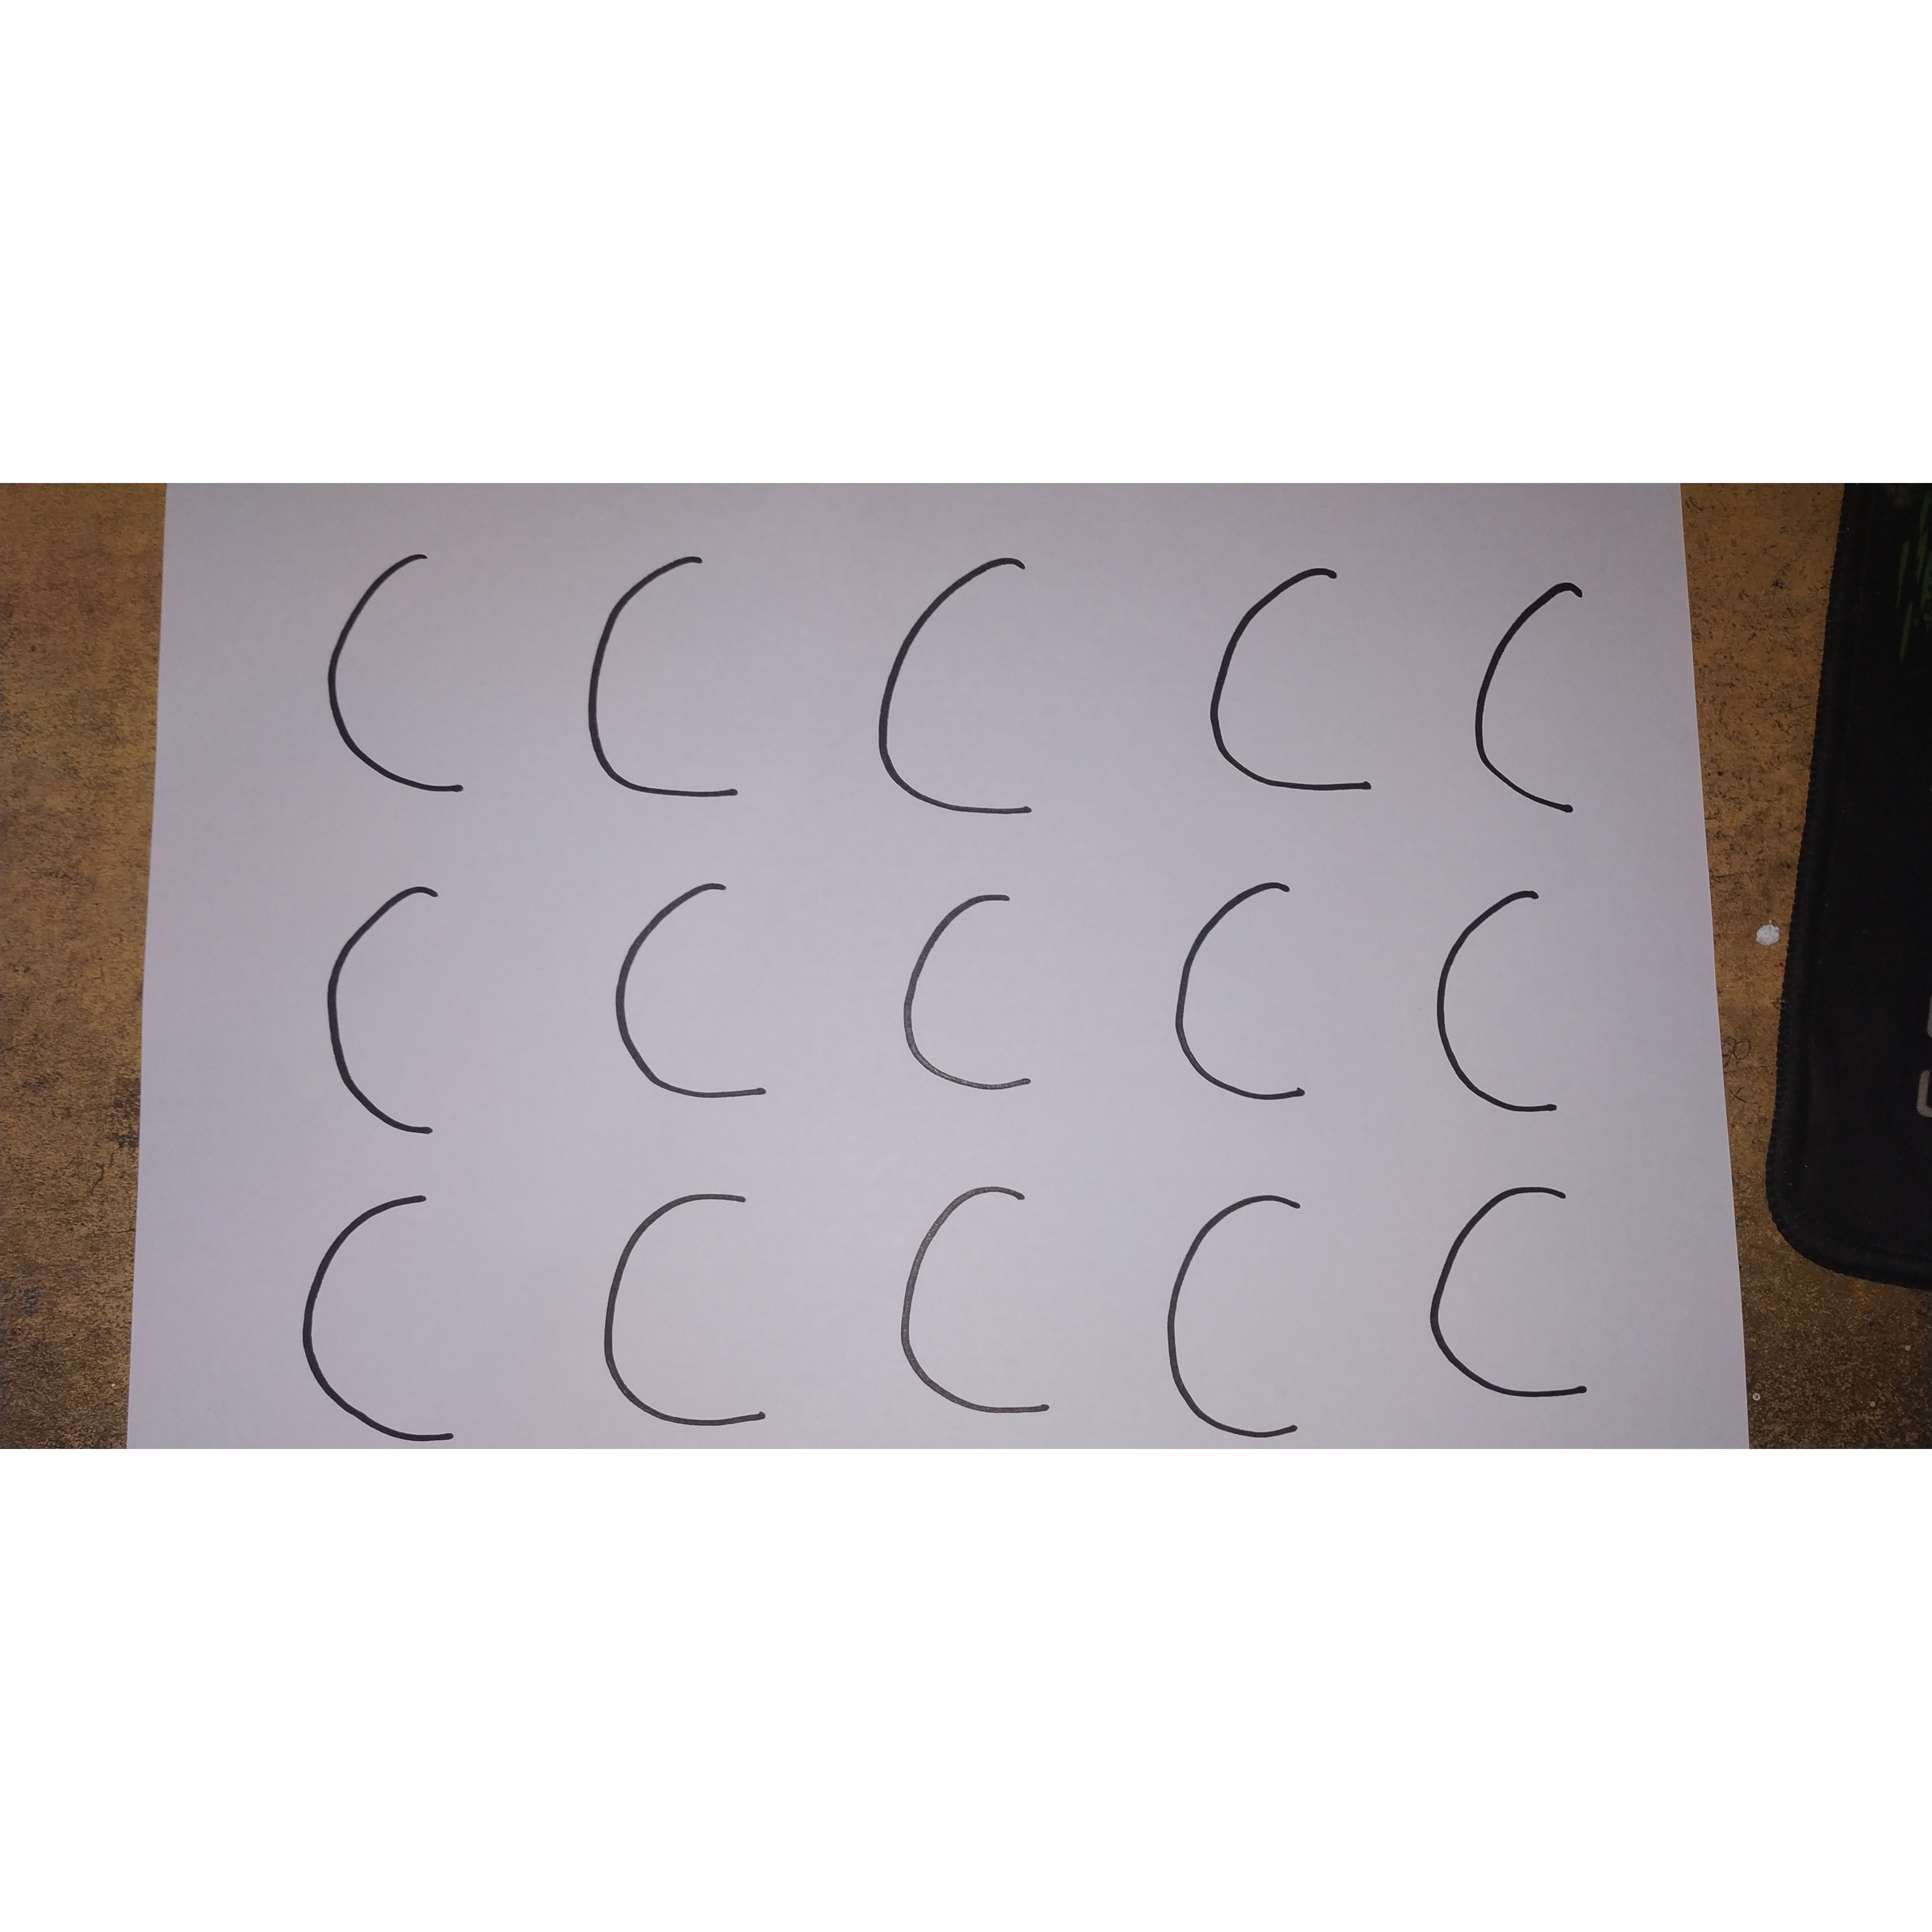openbracket: (855, 533, 1074, 840), (1185, 540, 1414, 829), (576, 1167, 818, 1436), (877, 1164, 1097, 1440), (297, 865, 494, 1159), (1135, 1170, 1345, 1443), (593, 874, 818, 1119), (576, 542, 769, 821), (293, 1180, 494, 1447), (1418, 1178, 1634, 1411), (299, 542, 492, 800), (1162, 865, 1347, 1123), (881, 874, 1076, 1117), (1424, 882, 1597, 1147), (1460, 567, 1631, 834)
